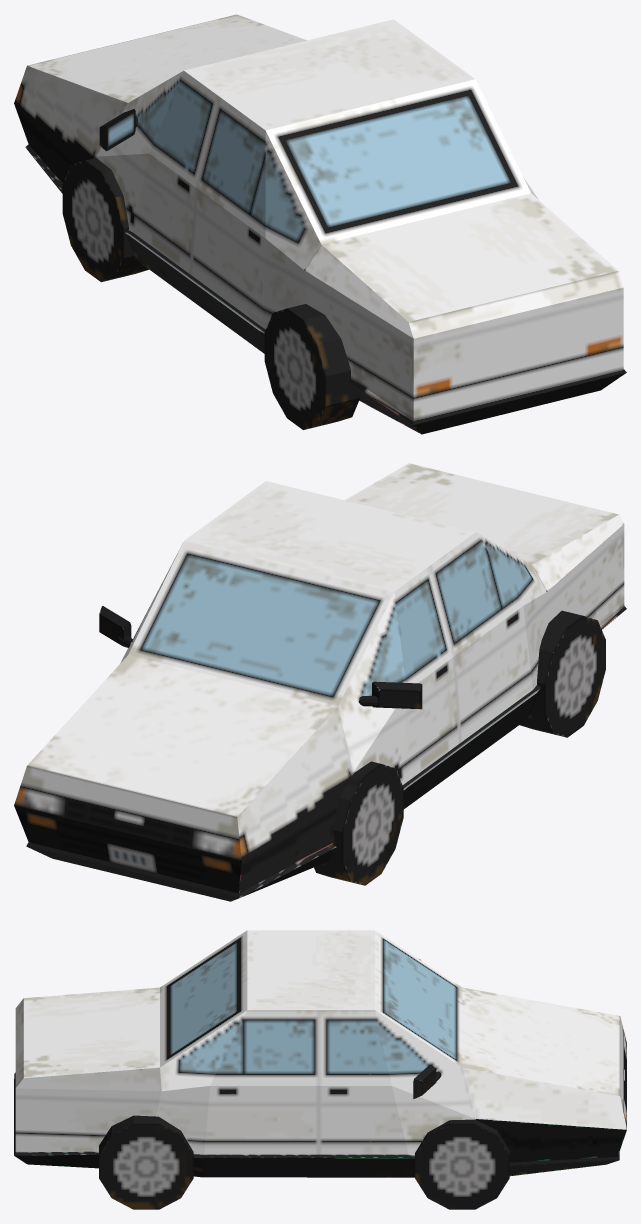
File: Car_01.fbx
The picture shows the model from 3 angles, top to bottom: view 1: azimuth 30°, elevation 25°; view 2: azimuth 150°, elevation 25°; view 3: azimuth 270°, elevation 25°; orthographic projection. The views are drawn at different scales.
Visible parts, largest first — view 1: car_body, wheels_back_left, wheels_front_left, mirror_left01; view 2: car_body, wheels_back_left, wheels_front_left, mirror_left01, mirror_right02; view 3: car_body, wheels_back_right, wheels_front_right, mirror_right02.
Part boxes in pixels (x1,y1,x2,y2): car_body: [14, 14, 626, 434]; wheels_back_left: [264, 304, 360, 429]; wheels_front_left: [62, 158, 148, 282]; mirror_left01: [99, 109, 135, 151]; car_body: [14, 463, 626, 901]; wheels_back_left: [520, 610, 605, 737]; wheels_front_left: [314, 761, 403, 885]; mirror_left01: [372, 681, 422, 709]; mirror_right02: [99, 606, 131, 647]; car_body: [14, 930, 626, 1177]; wheels_back_right: [99, 1115, 193, 1209]; wheels_front_right: [415, 1119, 509, 1209]; mirror_right02: [413, 1064, 436, 1098].
Size of the model in its own units: 115 by 81.25 by 242.
Materials: 1 (1 with a texture image).
